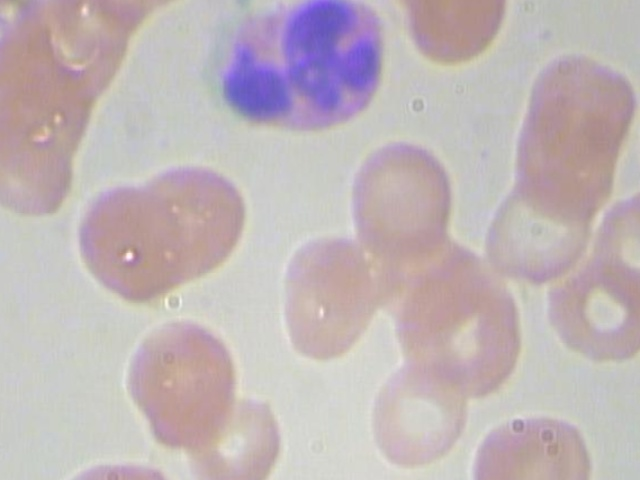RBC: (258, 223, 383, 365), (119, 311, 243, 453), (355, 351, 474, 474), (520, 51, 640, 169), (347, 134, 458, 259), (138, 159, 249, 284), (75, 179, 186, 303), (475, 179, 594, 289), (542, 247, 640, 371), (371, 0, 515, 78), (462, 400, 597, 480), (0, 101, 77, 225), (190, 386, 291, 480)
WBC: (211, 0, 401, 151)
